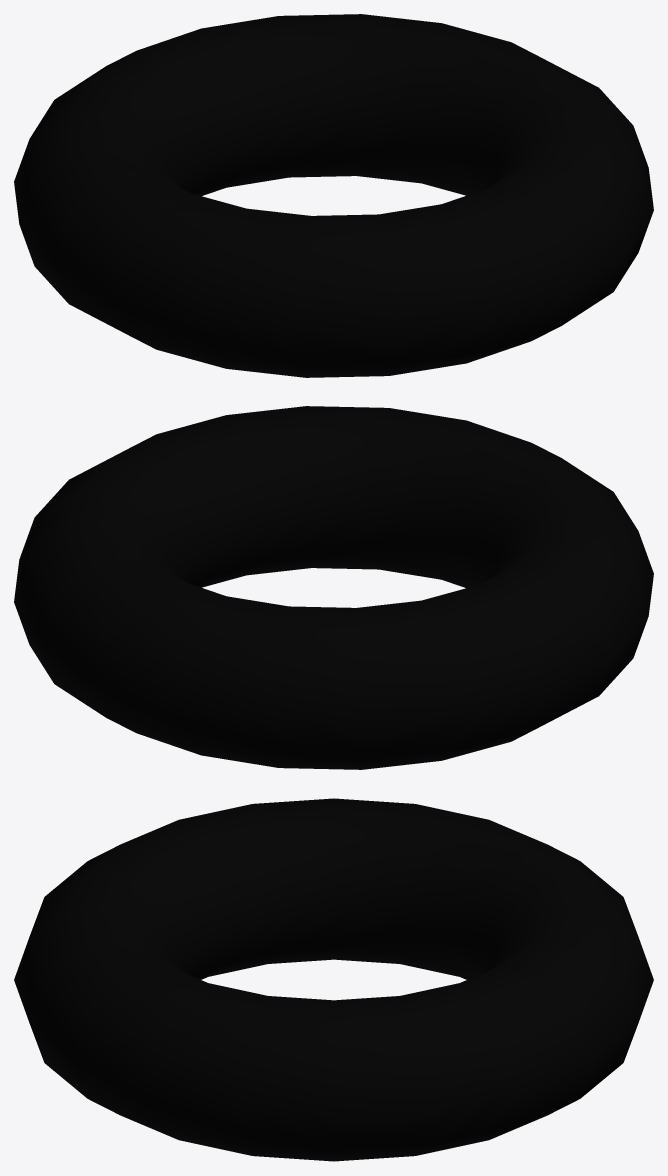
Rendered from 3b1e48fd-00af-437e-beda-20ce6be4390e.glb.
The picture shows the model from 3 angles, top to bottom: view 1: azimuth 30°, elevation 25°; view 2: azimuth 150°, elevation 25°; view 3: azimuth 270°, elevation 25°; orthographic projection.
Parts seen in each view (by area): view 1: BaseToroids.008; view 2: BaseToroids.008; view 3: BaseToroids.008.
Boxes of the visible parts, box(x1,y1,x2,y2) form: BaseToroids.008: box(14, 14, 653, 377); BaseToroids.008: box(14, 406, 653, 769); BaseToroids.008: box(14, 798, 653, 1161).
Size of what is drawn, in the model's own units: 0.9438 by 0.2278 by 0.9438.
1 material, 1 textured.
